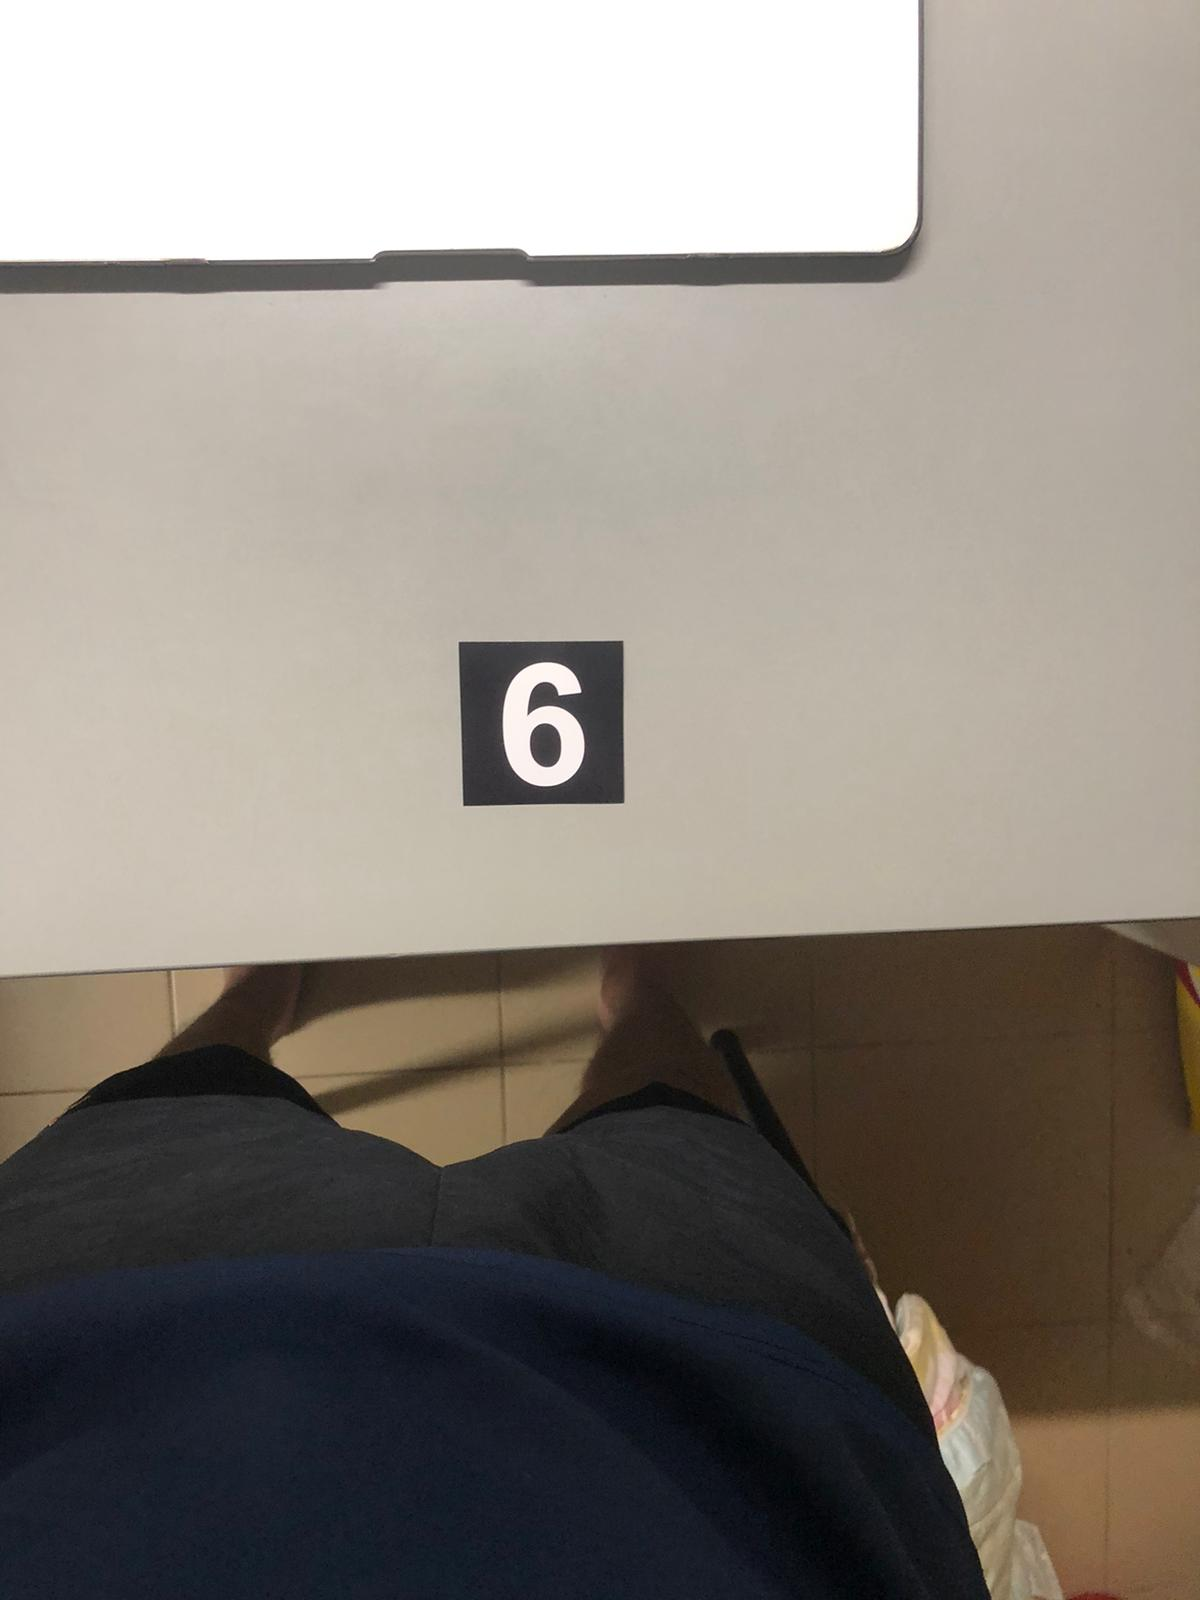Number 6: (459, 640, 618, 805)
